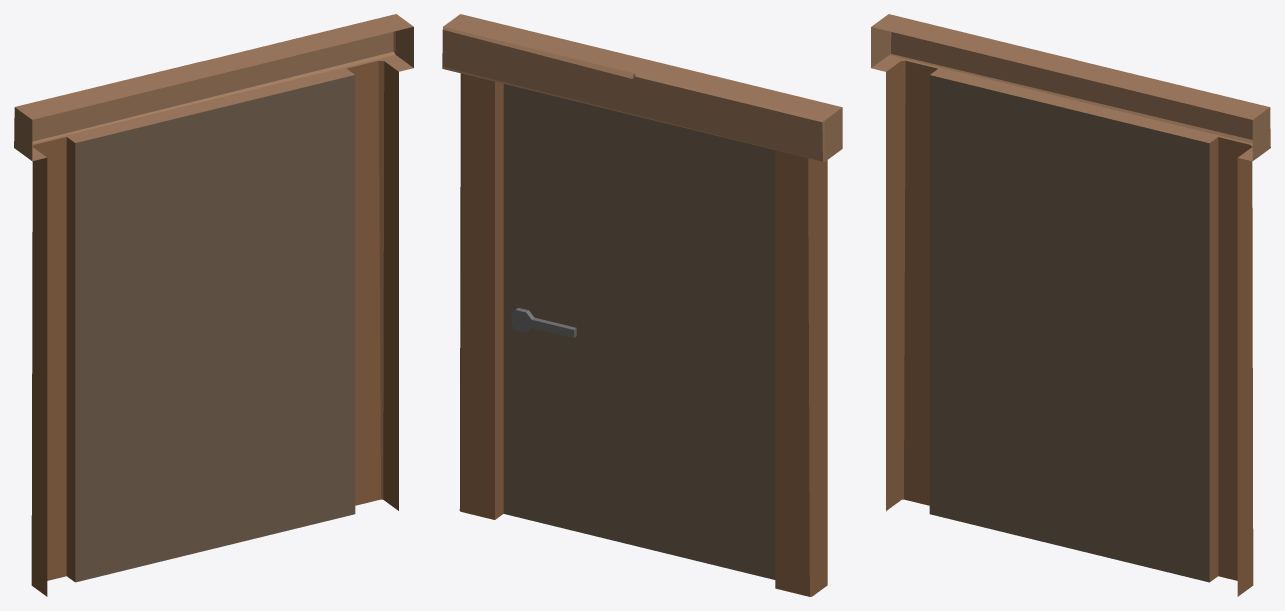
File: BG_door_01.fbx
3 renders of one model, left to right at view 1: azimuth 30°, elevation 25°; view 2: azimuth 150°, elevation 25°; view 3: azimuth 330°, elevation 25°, orthographic.
Visible parts, largest first — view 1: BG_door_01; view 2: BG_door_01; view 3: BG_door_01.
Boxes of the visible parts, x1=… form: BG_door_01: x1=14, y1=14, x2=413, y2=596; BG_door_01: x1=442, y1=14, x2=842, y2=596; BG_door_01: x1=871, y1=14, x2=1270, y2=596.
Bounding box in the file's own units: 27.27 × 32.83 × 2.35.
